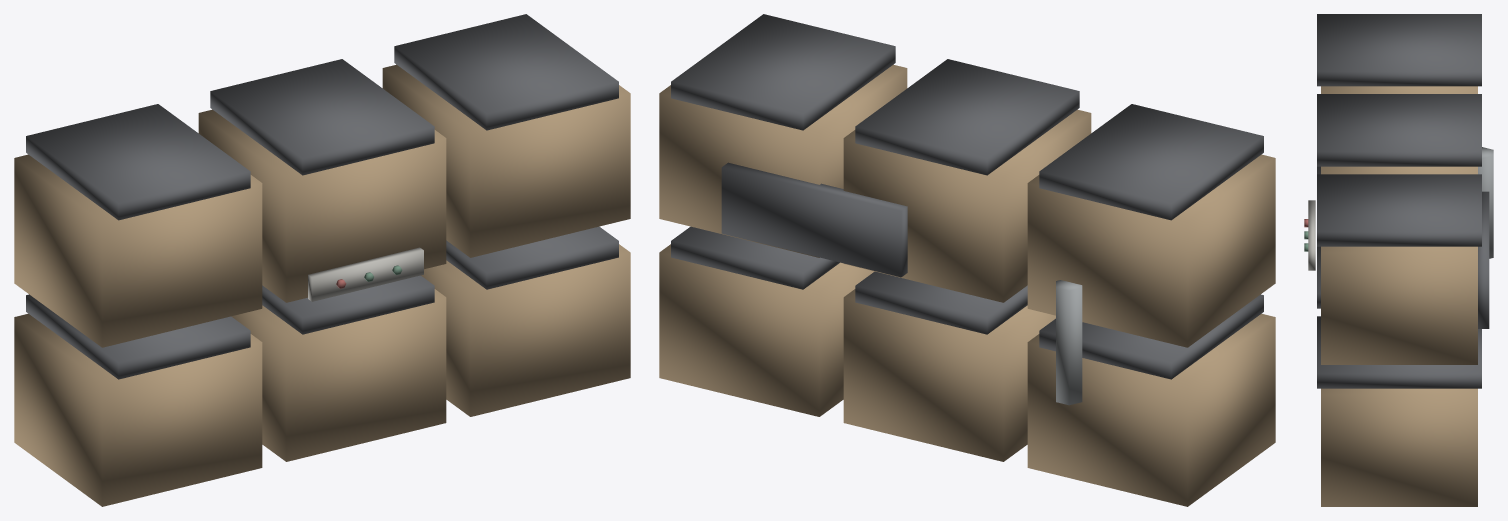
The model's file is market_produce_rack__service.glb.
3 renders of one model, left to right at view 1: azimuth 30°, elevation 25°; view 2: azimuth 150°, elevation 25°; view 3: azimuth 270°, elevation 25°, orthographic. The views are drawn at different scales.
Visible parts, largest first — view 1: world; view 2: world; view 3: world.
Part boxes in pixels (x1=…): world: x1=14, y1=14, x2=630, y2=506; world: x1=659, y1=14, x2=1275, y2=506; world: x1=1304, y1=14, x2=1493, y2=506.
Bounding box in the file's own units: 1.32 × 0.72 × 0.4596.
